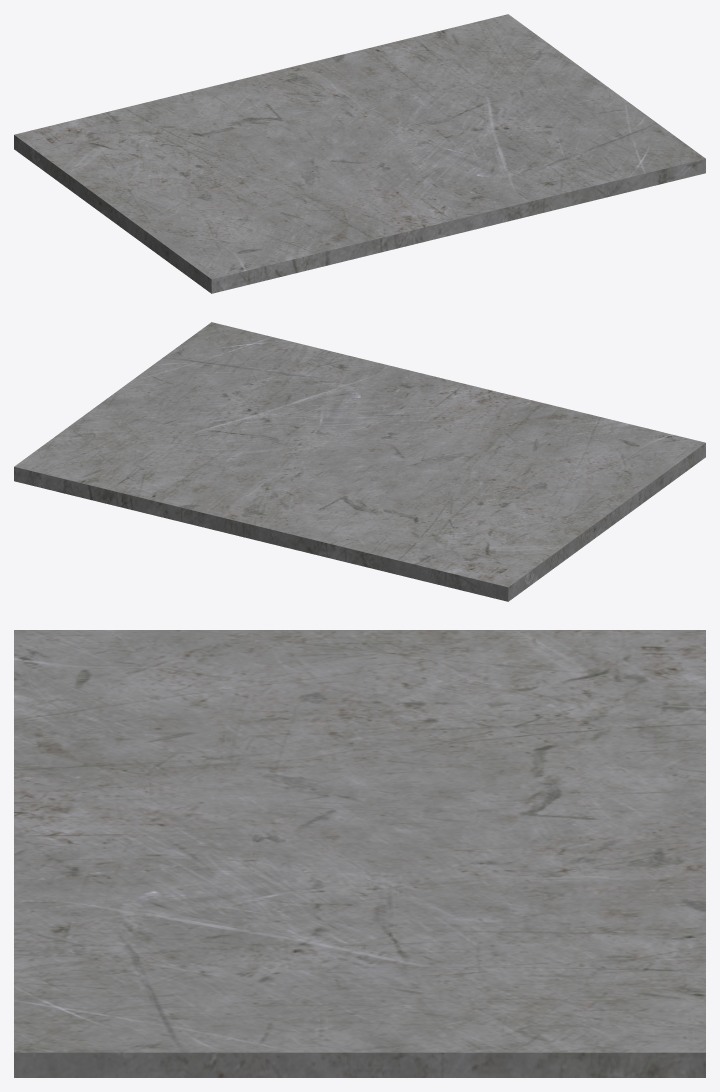
Rendered from Ceiling Lamp.FBX.
3 views of the same model, one above another, from view 1: azimuth 30°, elevation 25°; view 2: azimuth 150°, elevation 25°; view 3: azimuth 270°, elevation 25° (orthographic). The views are drawn at different scales.
Visible parts, largest first — view 1: Ceiling Lamp; view 2: Ceiling Lamp; view 3: Ceiling Lamp.
Boxes of the visible parts, x1=… form: Ceiling Lamp: x1=14, y1=14, x2=705, y2=293; Ceiling Lamp: x1=14, y1=322, x2=705, y2=601; Ceiling Lamp: x1=14, y1=630, x2=705, y2=1077.
Bounding box in the file's own units: 98.21 × 2.75 × 68.
1 material, 1 textured.
